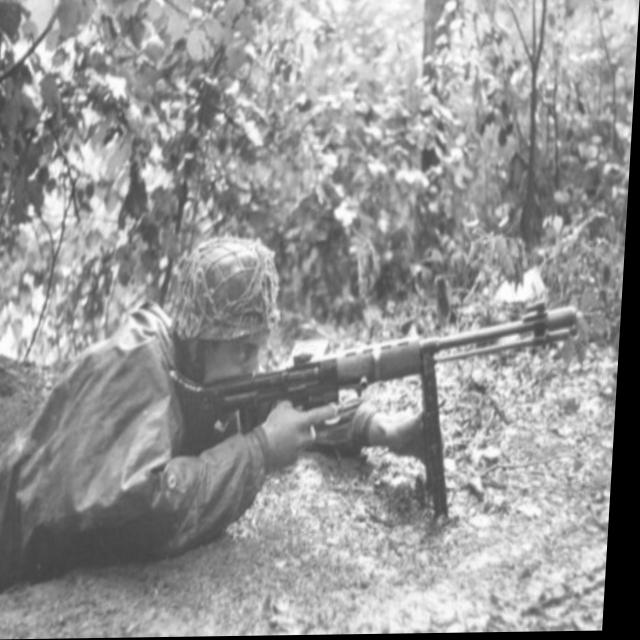other: (2, 226, 320, 570)
